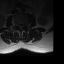CCS_stenosis: (20, 23, 21, 29)
LFS_stenosis: (23, 23, 24, 28)
LLS_stenosis: (21, 23, 23, 28)
RFS_stenosis: (17, 23, 18, 27)
RLS_stenosis: (18, 23, 20, 28)
